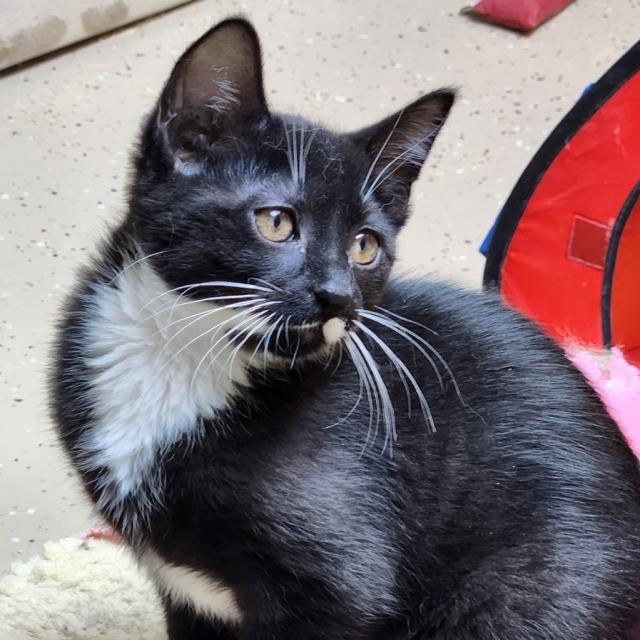manx_cat: (104, 7, 498, 408)
